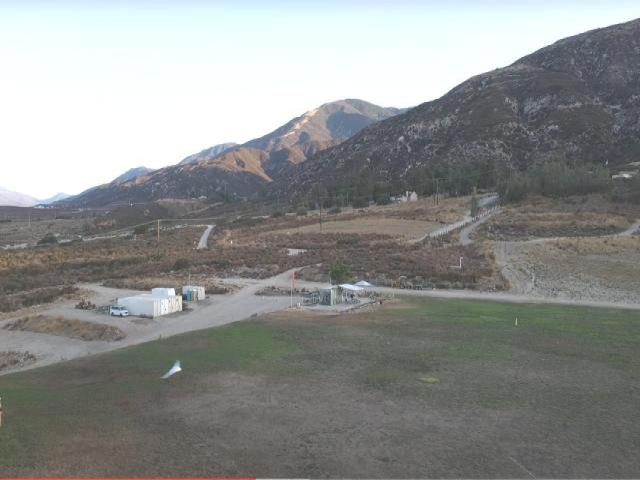iha: (162, 354, 184, 380)
